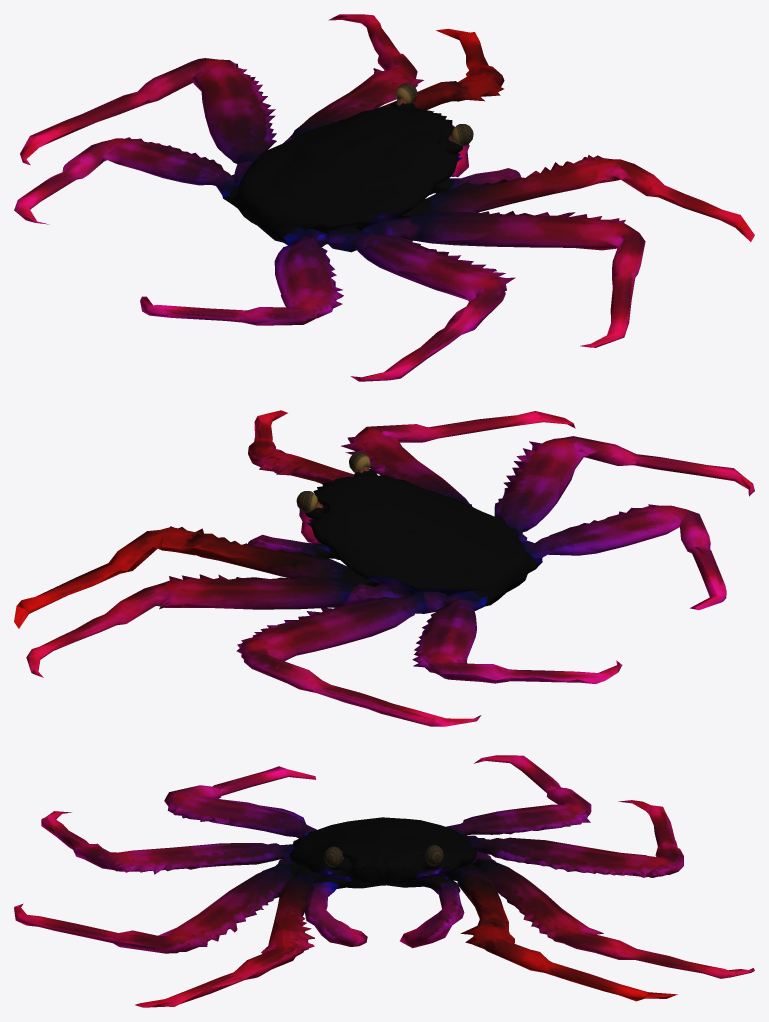
File: sally_lightfoot.glb
The picture shows the model from 3 angles, top to bottom: view 1: azimuth 30°, elevation 25°; view 2: azimuth 150°, elevation 25°; view 3: azimuth 270°, elevation 25°; orthographic projection. The views are drawn at different scales.
Parts seen in each view (by area): view 1: Legs, Body, Claws, Eyes; view 2: Legs, Body, Claws, Eyes; view 3: Legs, Body, Claws, Eyes.
Boxes of the visible parts, x1,y1,x2,y2 form: Legs: (14, 14, 754, 381); Body: (223, 100, 462, 244); Claws: (448, 125, 521, 189); Eyes: (395, 83, 473, 145); Legs: (14, 410, 754, 726); Body: (305, 468, 542, 606); Claws: (248, 509, 329, 555); Eyes: (296, 452, 370, 512); Legs: (14, 755, 754, 1007); Body: (289, 817, 491, 888); Claws: (304, 868, 464, 948); Eyes: (324, 845, 443, 870).
Bounding box in the file's own units: 2.68 × 0.4328 × 3.44.
2 materials, 2 textured.
